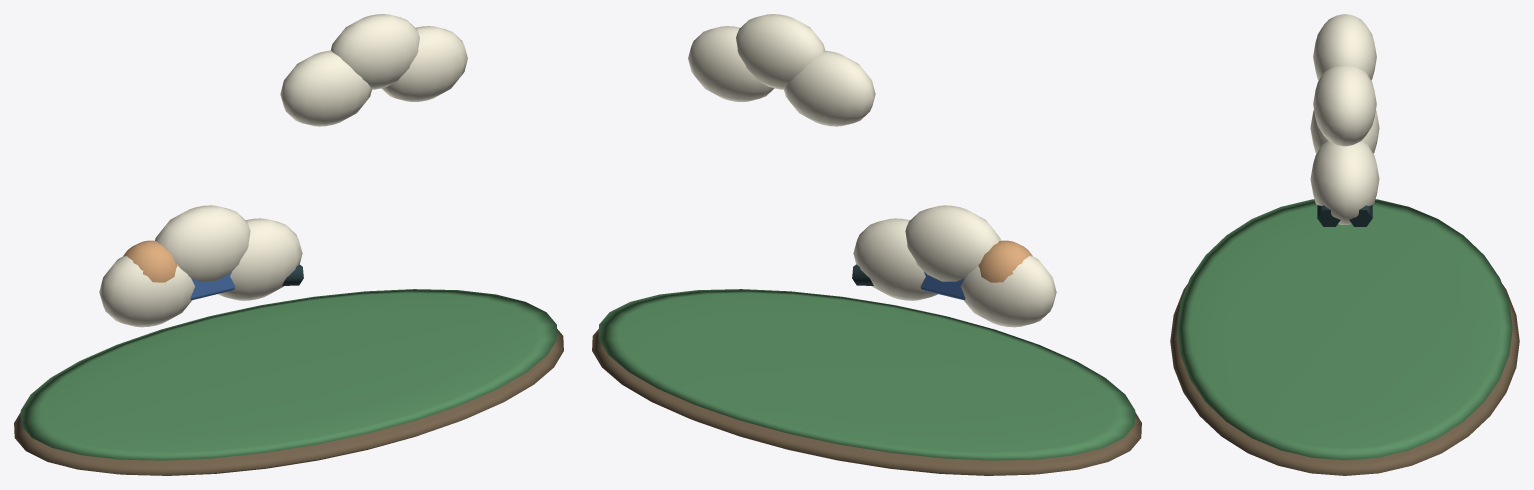
The model's file is complete-second-cloud-floor.glb.
3 renders of one model, left to right at view 1: azimuth 30°, elevation 25°; view 2: azimuth 150°, elevation 25°; view 3: azimuth 270°, elevation 25°, orthographic. The views are drawn at different scales.
Parts seen in each view (by area): view 1: complete-second-cloud-floor_surface_01, complete-second-cloud-floor_surface_05, complete-second-cloud-floor_surface_00, complete-second-cloud-floor_surface_02, complete-second-cloud-floor_surface_03; view 2: complete-second-cloud-floor_surface_01, complete-second-cloud-floor_surface_05, complete-second-cloud-floor_surface_00, complete-second-cloud-floor_surface_02, complete-second-cloud-floor_surface_03; view 3: complete-second-cloud-floor_surface_01, complete-second-cloud-floor_surface_05, complete-second-cloud-floor_surface_00, complete-second-cloud-floor_surface_04.
Boxes of the visible parts, x1=… form: complete-second-cloud-floor_surface_01: x1=20, y1=289, x2=557, y2=460; complete-second-cloud-floor_surface_05: x1=99, y1=14, x2=467, y2=327; complete-second-cloud-floor_surface_00: x1=14, y1=329, x2=563, y2=475; complete-second-cloud-floor_surface_02: x1=123, y1=240, x2=177, y2=284; complete-second-cloud-floor_surface_03: x1=190, y1=272, x2=235, y2=299; complete-second-cloud-floor_surface_01: x1=598, y1=289, x2=1135, y2=460; complete-second-cloud-floor_surface_05: x1=688, y1=14, x2=1056, y2=327; complete-second-cloud-floor_surface_00: x1=592, y1=329, x2=1141, y2=475; complete-second-cloud-floor_surface_02: x1=978, y1=240, x2=1032, y2=284; complete-second-cloud-floor_surface_03: x1=920, y1=272, x2=965, y2=299; complete-second-cloud-floor_surface_01: x1=1177, y1=199, x2=1512, y2=460; complete-second-cloud-floor_surface_05: x1=1310, y1=14, x2=1379, y2=224; complete-second-cloud-floor_surface_00: x1=1170, y1=284, x2=1519, y2=475; complete-second-cloud-floor_surface_04: x1=1317, y1=205, x2=1372, y2=226.
Size of the model in its own units: 4.56 by 3.02 by 2.5.
